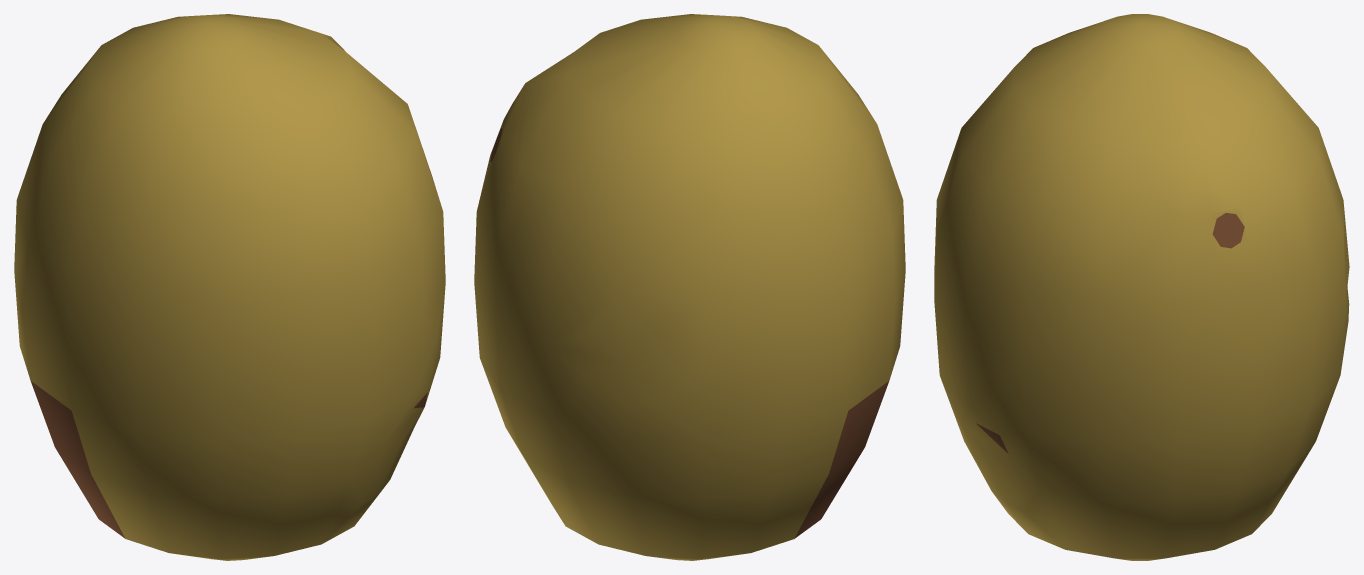
Rendered from PotatoMesh.fbx.
3 renders of one model, left to right at view 1: azimuth 30°, elevation 25°; view 2: azimuth 150°, elevation 25°; view 3: azimuth 270°, elevation 25°, orthographic. The views are drawn at different scales.
Parts seen in each view (by area): view 1: Potato; view 2: Potato; view 3: Potato.
Part boxes in pixels (bbox=[...]): Potato: bbox=[14, 14, 445, 560]; Potato: bbox=[474, 14, 905, 560]; Potato: bbox=[934, 14, 1349, 560].
Bounding box in the file's own units: 457 × 630 × 461.
